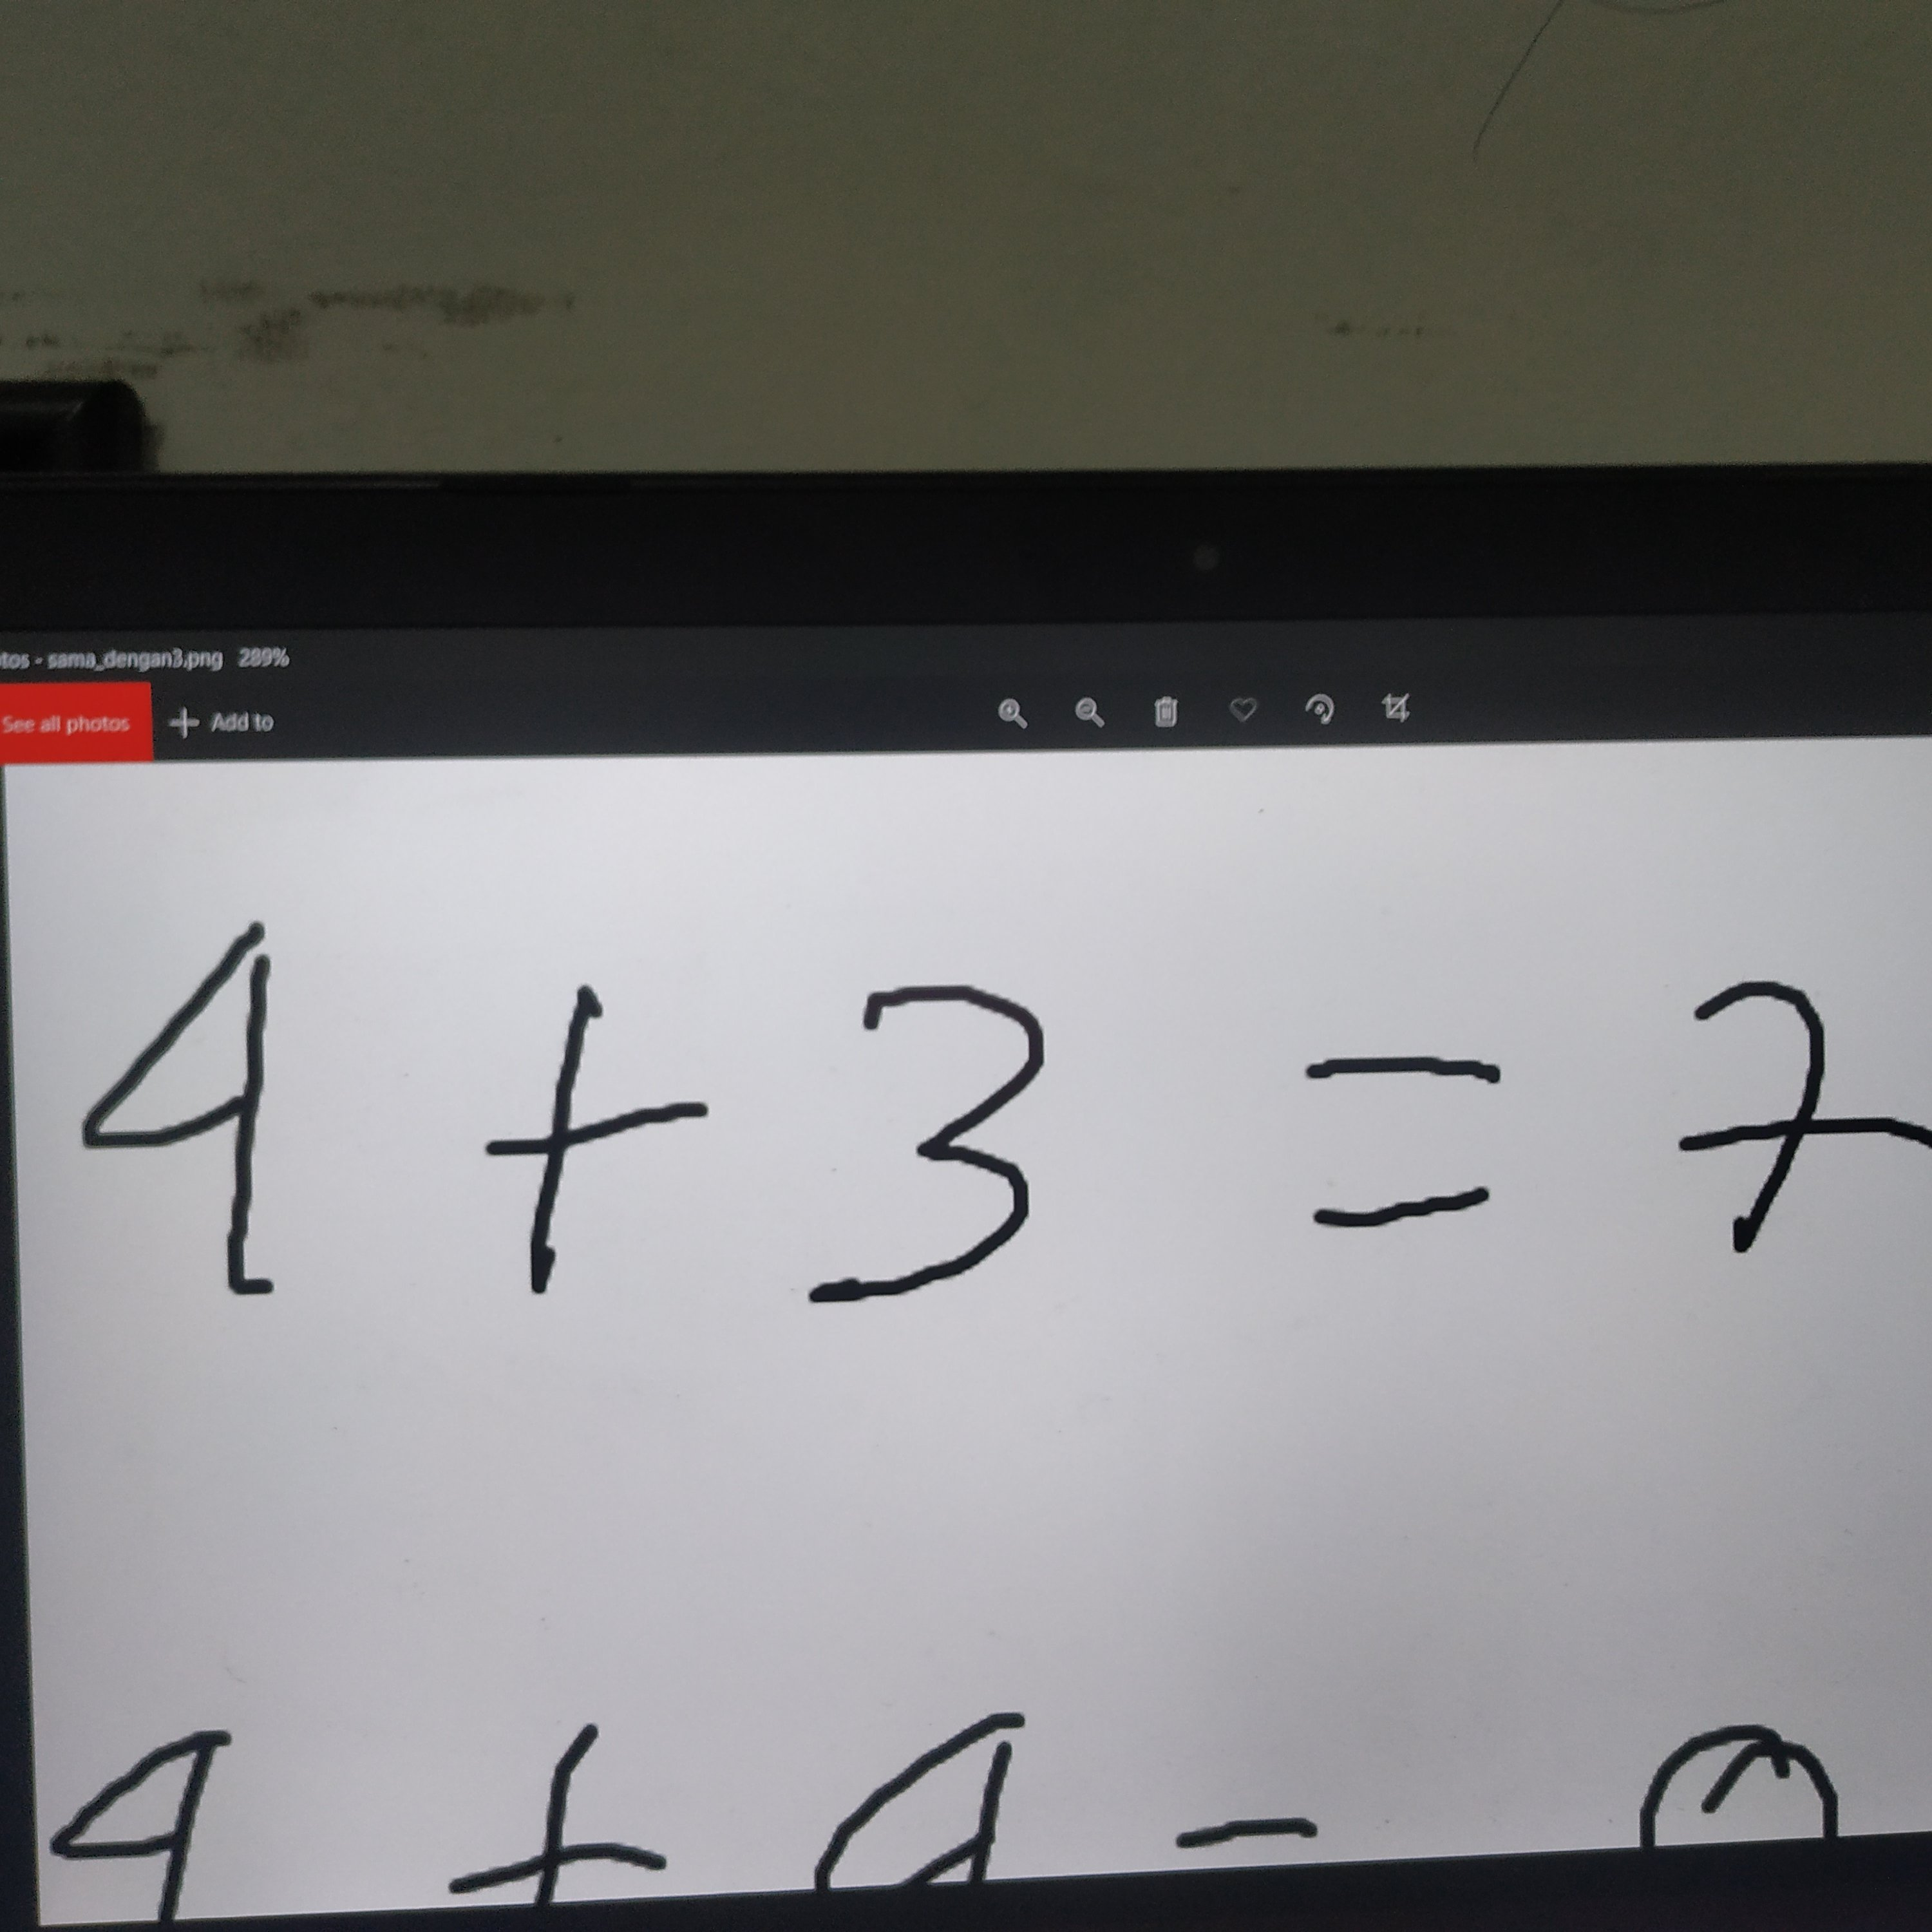equal: (1276, 1036, 1560, 1256)
num3: (786, 966, 1091, 1340)
num4: (69, 907, 325, 1317)
num7: (1648, 968, 1932, 1296)
sum: (464, 972, 719, 1312)
